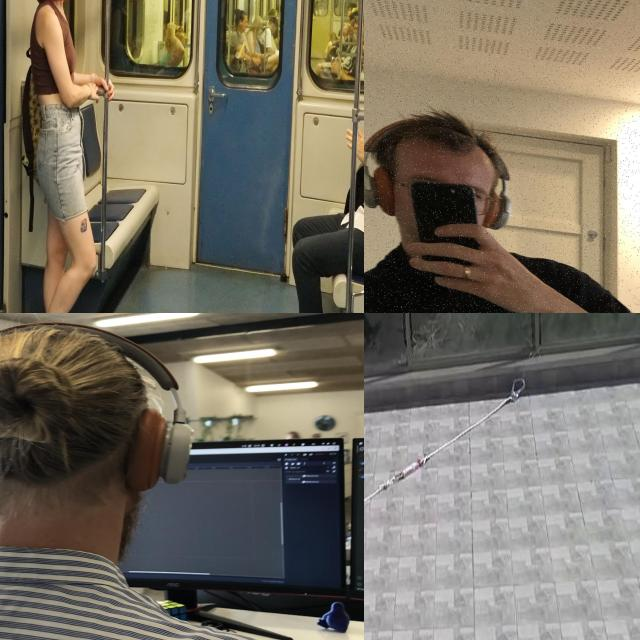Ear-protection: (0, 318, 202, 540), (364, 162, 530, 233)
Harness: (364, 379, 526, 505)
head_nohelmet: (364, 92, 511, 168)
person: (364, 76, 640, 313)
